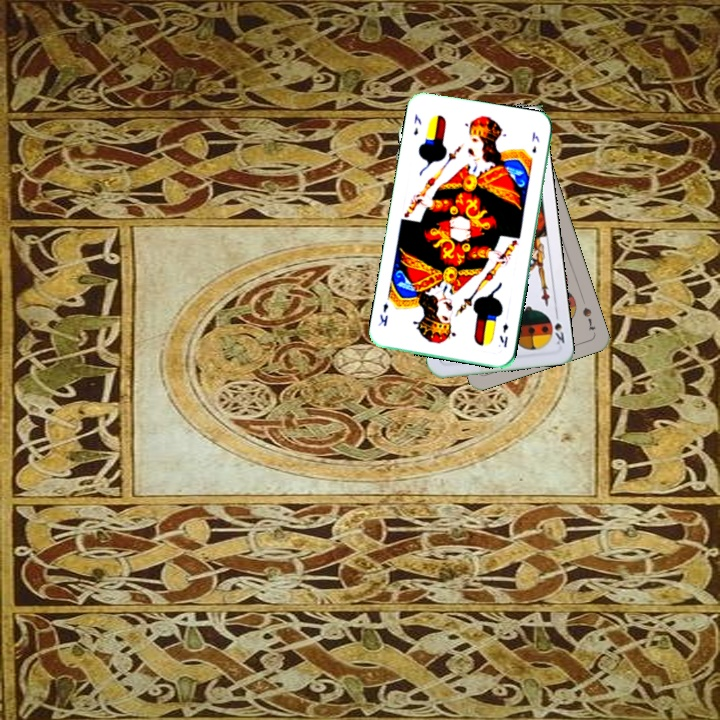EK: (495, 320, 511, 350), (409, 110, 424, 138)
S7: (578, 303, 598, 333)
SK: (550, 308, 567, 347)
